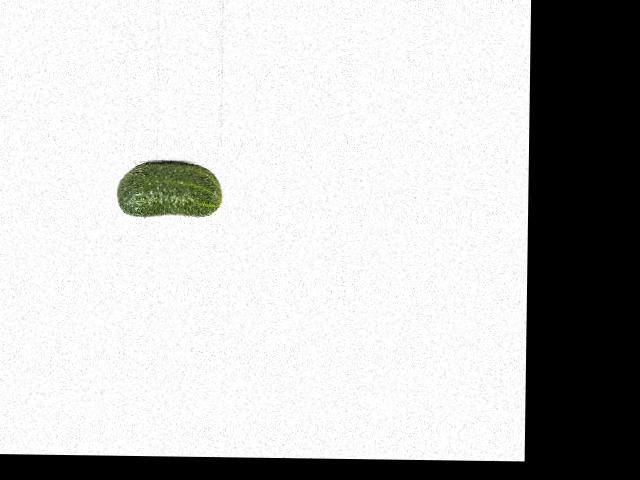cucumber: (116, 160, 222, 216)
